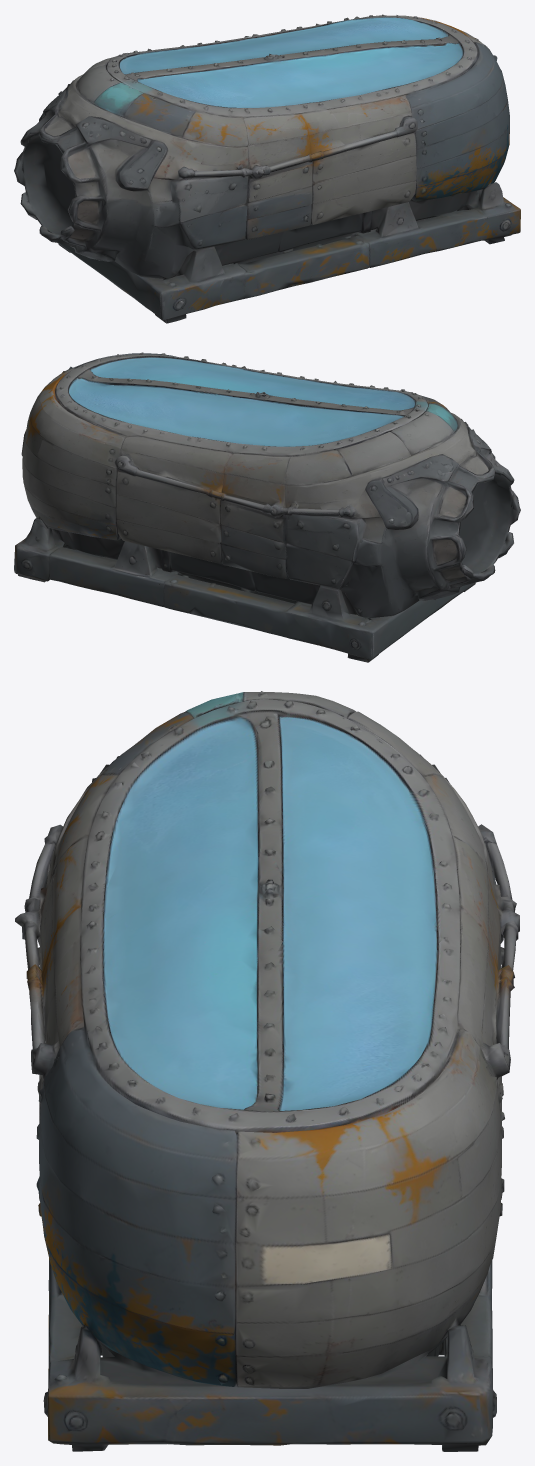
The model's file is pod-p2-flat.glb.
The picture shows the model from 3 angles, top to bottom: view 1: azimuth 30°, elevation 25°; view 2: azimuth 150°, elevation 25°; view 3: azimuth 270°, elevation 25°; orthographic projection. The views are drawn at different scales.
Visible parts, largest first — view 1: tripo_node_72567c30-1ec4-4c14-a07b-9df46aed2853; view 2: tripo_node_72567c30-1ec4-4c14-a07b-9df46aed2853; view 3: tripo_node_72567c30-1ec4-4c14-a07b-9df46aed2853.
Boxes of the visible parts, box(x1,y1,x2,y2) form: tripo_node_72567c30-1ec4-4c14-a07b-9df46aed2853: box(14, 14, 520, 323); tripo_node_72567c30-1ec4-4c14-a07b-9df46aed2853: box(14, 352, 520, 662); tripo_node_72567c30-1ec4-4c14-a07b-9df46aed2853: box(15, 691, 519, 1451).
Size of the model in its own units: 1.81 by 0.8 by 0.8766.
Materials: 1 (1 with a texture image).
